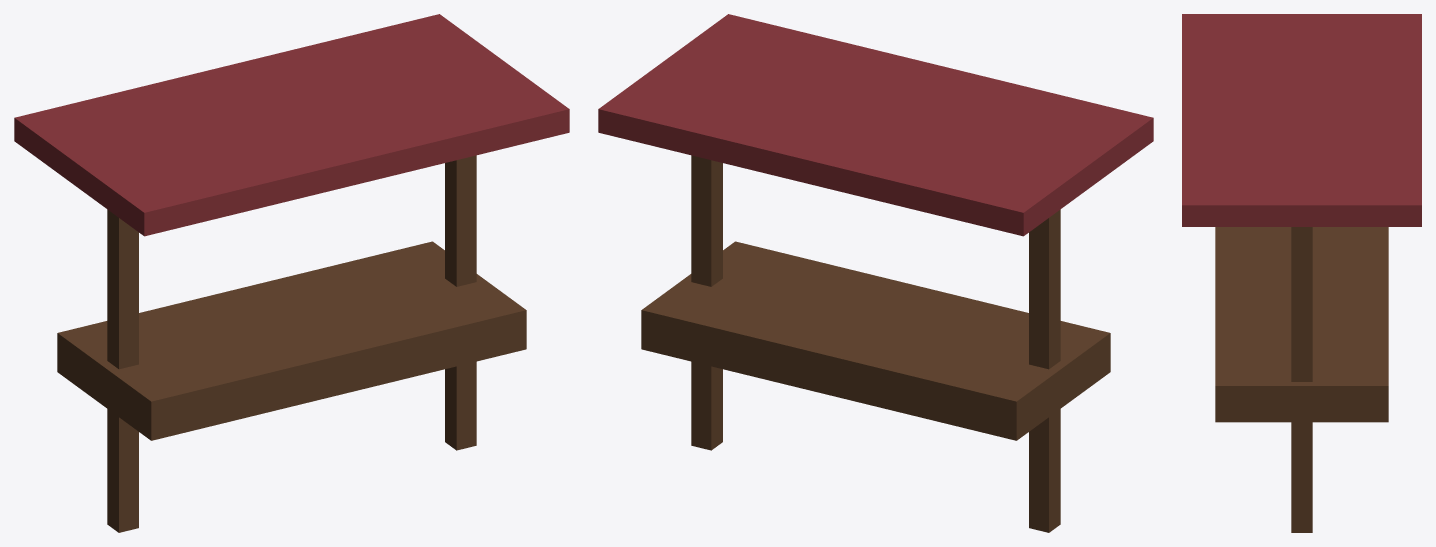
The model's file is market_stall.glb.
3 renders of one model, left to right at view 1: azimuth 30°, elevation 25°; view 2: azimuth 150°, elevation 25°; view 3: azimuth 270°, elevation 25°, orthographic. The views are drawn at different scales.
Parts seen in each view (by area): view 1: Canopy, Counter, Post-1.35, Post1.35; view 2: Canopy, Counter, Post-1.35, Post1.35; view 3: Canopy, Counter, Post1.35.
Boxes of the visible parts, x1=… form: Canopy: x1=14, y1=14, x2=569, y2=236; Counter: x1=57, y1=241, x2=526, y2=440; Post-1.35: x1=107, y1=209, x2=138, y2=532; Post1.35: x1=445, y1=155, x2=476, y2=450; Canopy: x1=598, y1=14, x2=1153, y2=236; Counter: x1=641, y1=241, x2=1110, y2=440; Post-1.35: x1=1029, y1=209, x2=1060, y2=532; Post1.35: x1=691, y1=155, x2=722, y2=450; Canopy: x1=1182, y1=14, x2=1421, y2=226; Counter: x1=1215, y1=227, x2=1388, y2=422; Post1.35: x1=1291, y1=227, x2=1312, y2=532.
Bounding box in the file's own units: 3.4 × 2.84 × 1.8.
